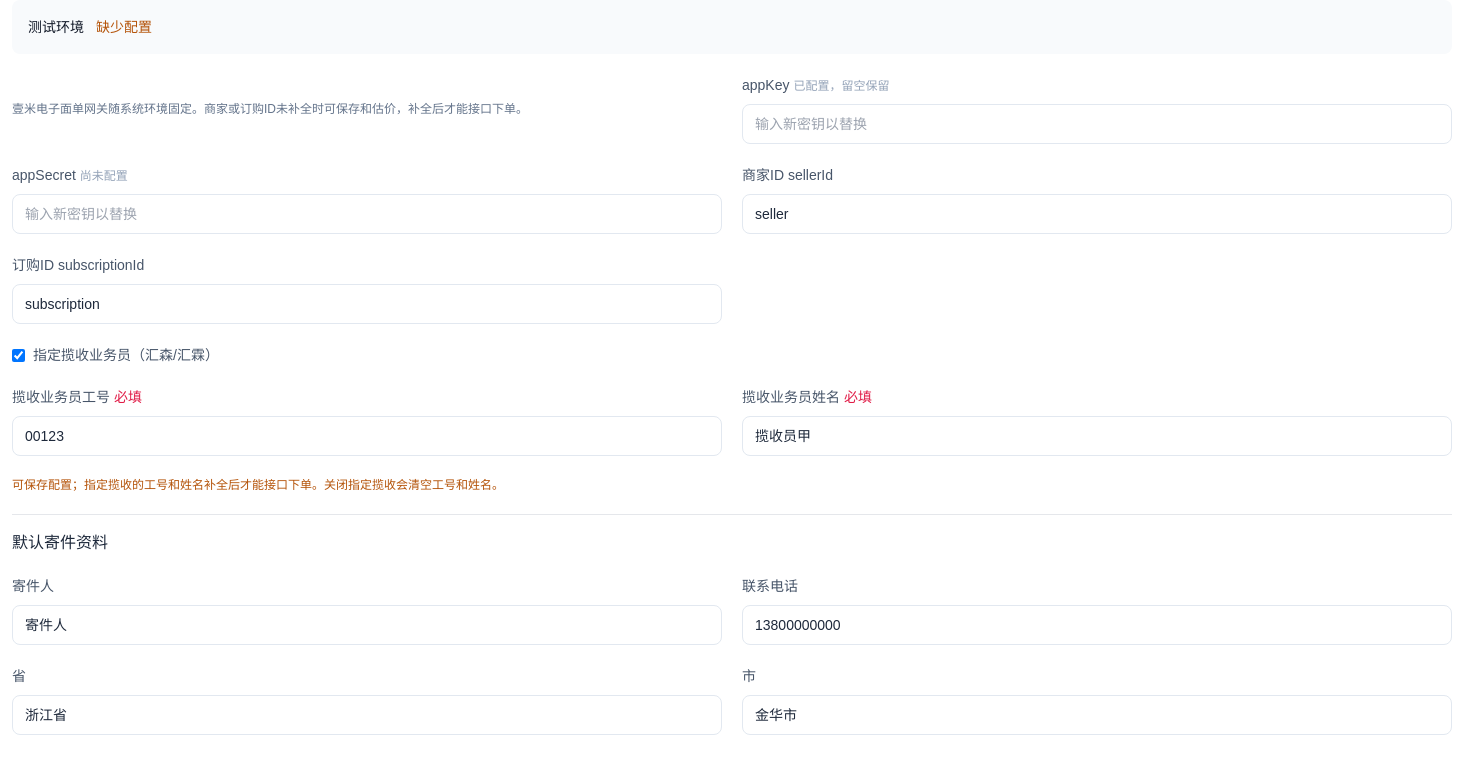
Scenario: logistics configuration forms › still warns about a changed Yimi identity when sellerId changes
Expected: the text "账号身份已变更" is not shown
Replace the text in the field labelled "商家ID sellerId" with "changed" at (1097, 214), box [742,194,1452,234]
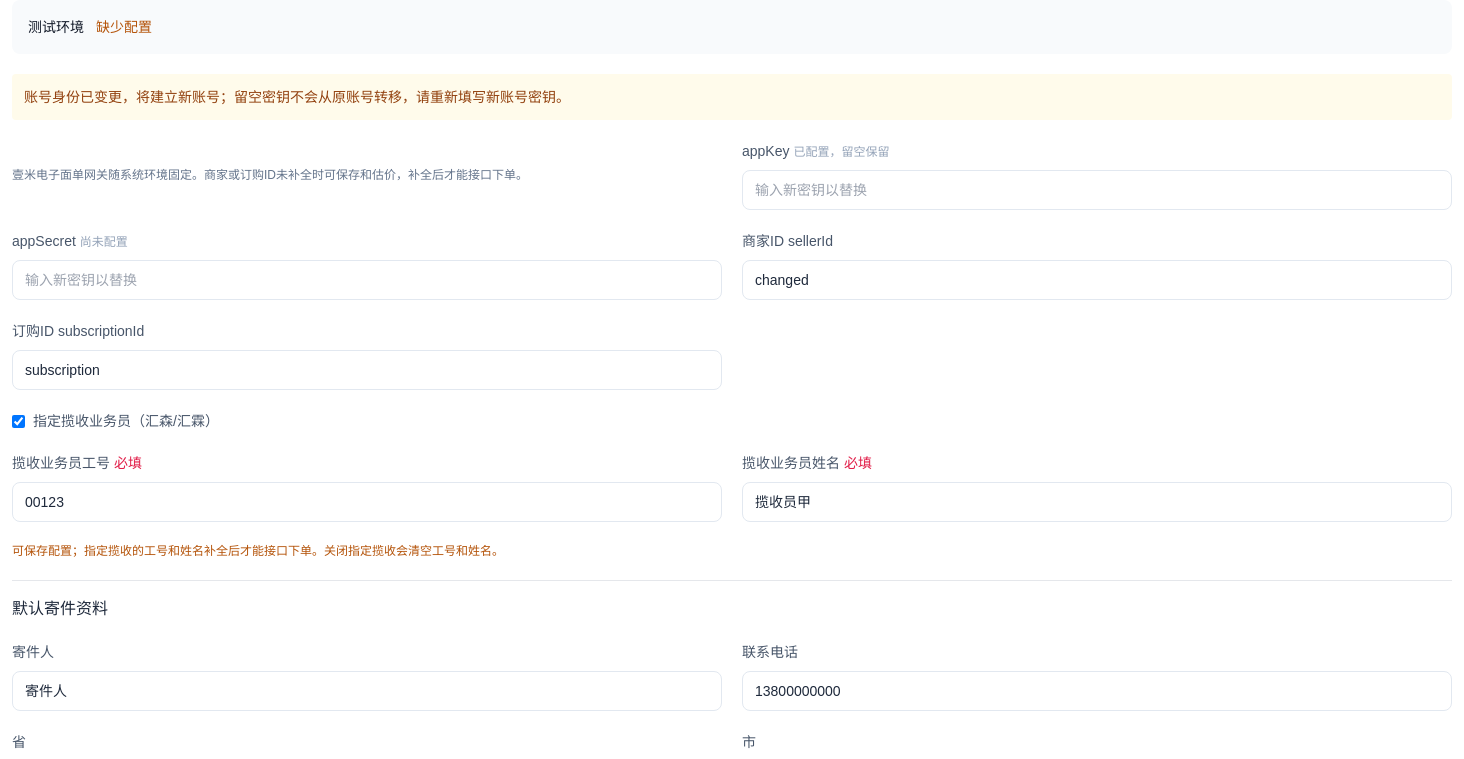
Expected: the text "账号身份已变更" is shown, [24,89,570,105]
